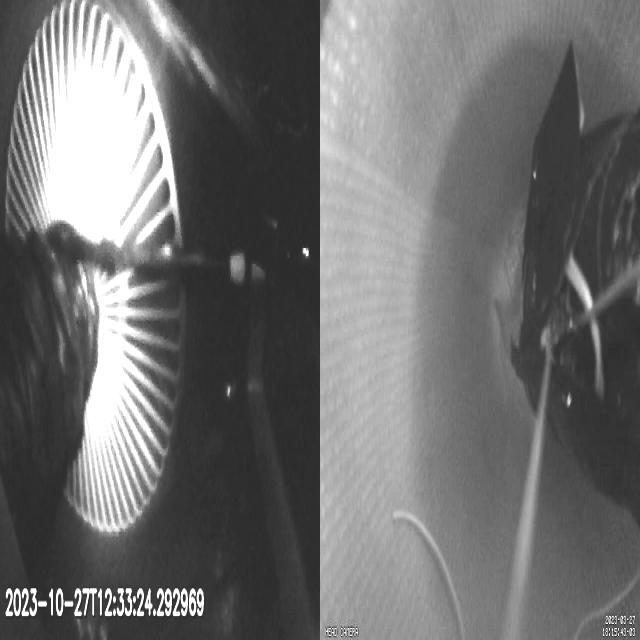white-dots: (228, 248, 276, 300)
